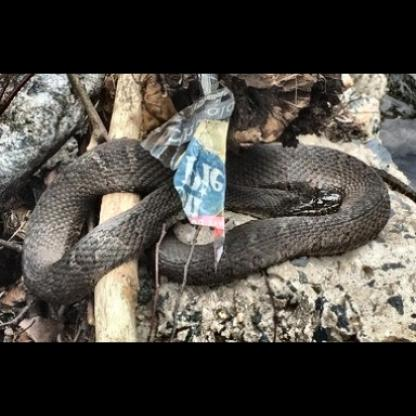Snake: (2, 84, 197, 323), (227, 145, 411, 275)
